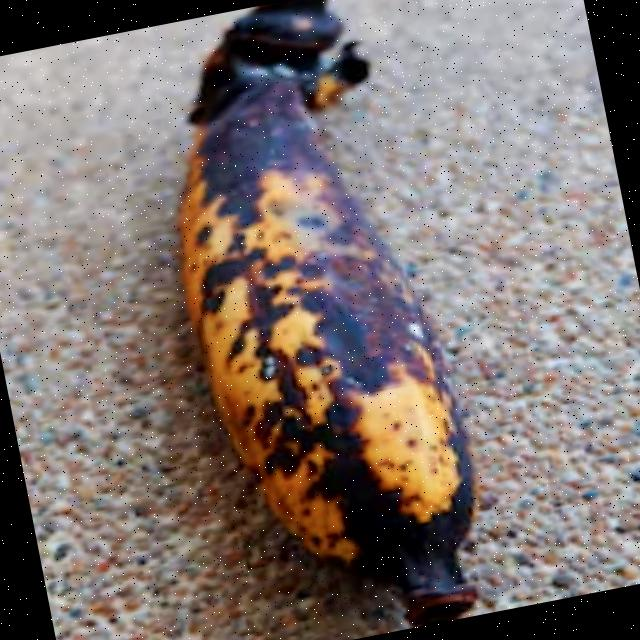Rotten: (97, 0, 561, 640)
